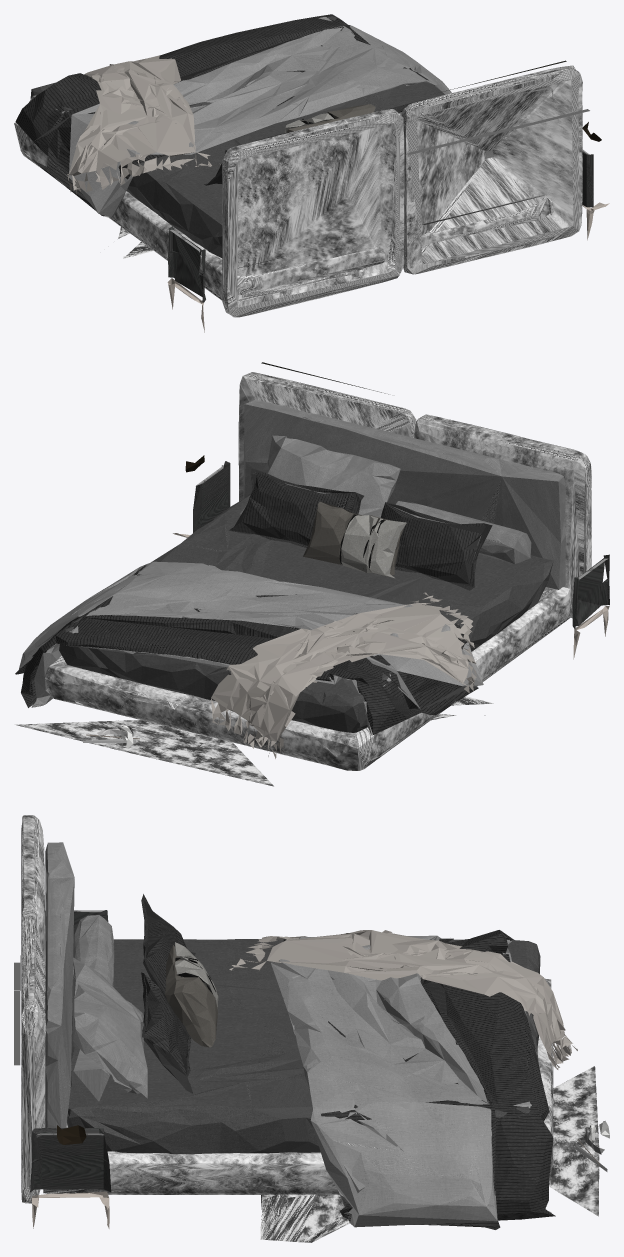
Rendered from bedroom_mobile.glb.
3 renders of one model, top to bottom at view 1: azimuth 30°, elevation 25°; view 2: azimuth 150°, elevation 25°; view 3: azimuth 270°, elevation 25°, orthographic. The views are drawn at different scales.
Parts seen in each view (by area): view 1: Contents__Mat3d66_1313438_37_6511, Contents__Material__2147458189, Contents__Mat3d66_1313438_38_5611, Contents__JianE_Mtl_20211272hgf11757719, Contents__Mat3d66_1313438_43_1710, Contents__Mat3d66_1313438_33_5580, Contents__Mat3d66_1313438_45_7734, Contents__Mat3d66_1313438_30_5700, Contents__Mat3d66_1313438_36_7048; view 2: Contents__Mat3d66_1313438_37_6511, Contents__Mat3d66_1313438_31_1099, Contents__Mat3d66_1313438_43_1710, Contents__Material__2147458189, Contents__Mat3d66_1313438_38_5611, Contents__JianE_Mtl_20211272hgf11757719, Contents__Mat3d66_1313438_47_142, Contents__Blend, Contents__Mat3d66_1313438_33_5580, Contents__Mat3d66_1313438_46_1112, Contents__Mat3d66_1313438_45_7734; view 3: Contents__Material__2147458189, Contents__Mat3d66_1313438_43_1710, Contents__Mat3d66_1313438_37_6511, Contents__Mat3d66_1313438_31_1099, Contents__JianE_Mtl_20211272hgf11757719, Contents__Mat3d66_1313438_38_5611, Contents__Blend, Contents__Mat3d66_1313438_47_142, Contents__Mat3d66_1313438_33_5580, Contents__Mat3d66_1313438_45_7734, Contents__Mat3d66_1313438_46_1112, Contents__Mat3d66_1313438_30_5700 (+1 smaller).
Part boxes in pixels (left/top/right/bottom): Contents__Mat3d66_1313438_37_6511: left=14, top=65, right=582, bottom=317; Contents__Material__2147458189: left=29, top=17, right=451, bottom=217; Contents__Mat3d66_1313438_38_5611: left=67, top=55, right=220, bottom=195; Contents__JianE_Mtl_20211272hgf11757719: left=15, top=14, right=428, bottom=217; Contents__Mat3d66_1313438_43_1710: left=30, top=16, right=444, bottom=257; Contents__Mat3d66_1313438_33_5580: left=168, top=153, right=593, bottom=302; Contents__Mat3d66_1313438_45_7734: left=286, top=104, right=375, bottom=132; Contents__Mat3d66_1313438_30_5700: left=167, top=202, right=609, bottom=332; Contents__Mat3d66_1313438_36_7048: left=408, top=109, right=589, bottom=154; Contents__Mat3d66_1313438_37_6511: left=44, top=372, right=591, bottom=770; Contents__Mat3d66_1313438_31_1099: left=240, top=399, right=565, bottom=589; Contents__Mat3d66_1313438_43_1710: left=59, top=493, right=553, bottom=732; Contents__Material__2147458189: left=19, top=561, right=483, bottom=735; Contents__Mat3d66_1313438_38_5611: left=211, top=592, right=476, bottom=758; Contents__JianE_Mtl_20211272hgf11757719: left=15, top=565, right=478, bottom=734; Contents__Mat3d66_1313438_47_142: left=229, top=468, right=492, bottom=590; Contents__Blend: left=14, top=696, right=493, bottom=786; Contents__Mat3d66_1313438_33_5580: left=193, top=461, right=609, bottom=629; Contents__Mat3d66_1313438_46_1112: left=341, top=515, right=406, bottom=578; Contents__Mat3d66_1313438_45_7734: left=303, top=501, right=404, bottom=576; Contents__Material__2147458189: left=271, top=935, right=553, bottom=1227; Contents__Mat3d66_1313438_43_1710: left=67, top=939, right=540, bottom=1154; Contents__Mat3d66_1313438_37_6511: left=21, top=815, right=553, bottom=1203; Contents__Mat3d66_1313438_31_1099: left=45, top=842, right=147, bottom=1127; Contents__JianE_Mtl_20211272hgf11757719: left=283, top=930, right=555, bottom=1229; Contents__Mat3d66_1313438_38_5611: left=229, top=930, right=577, bottom=1069; Contents__Blend: left=260, top=1066, right=599, bottom=1242; Contents__Mat3d66_1313438_47_142: left=141, top=894, right=195, bottom=1093; Contents__Mat3d66_1313438_33_5580: left=30, top=910, right=111, bottom=1192; Contents__Mat3d66_1313438_45_7734: left=165, top=945, right=217, bottom=1047; Contents__Mat3d66_1313438_46_1112: left=175, top=942, right=218, bottom=1008; Contents__Mat3d66_1313438_30_5700: left=31, top=1139, right=600, bottom=1228.
Bounding box in the file's own units: 2.6 × 1.15 × 2.77.
22 materials, 14 textured.
